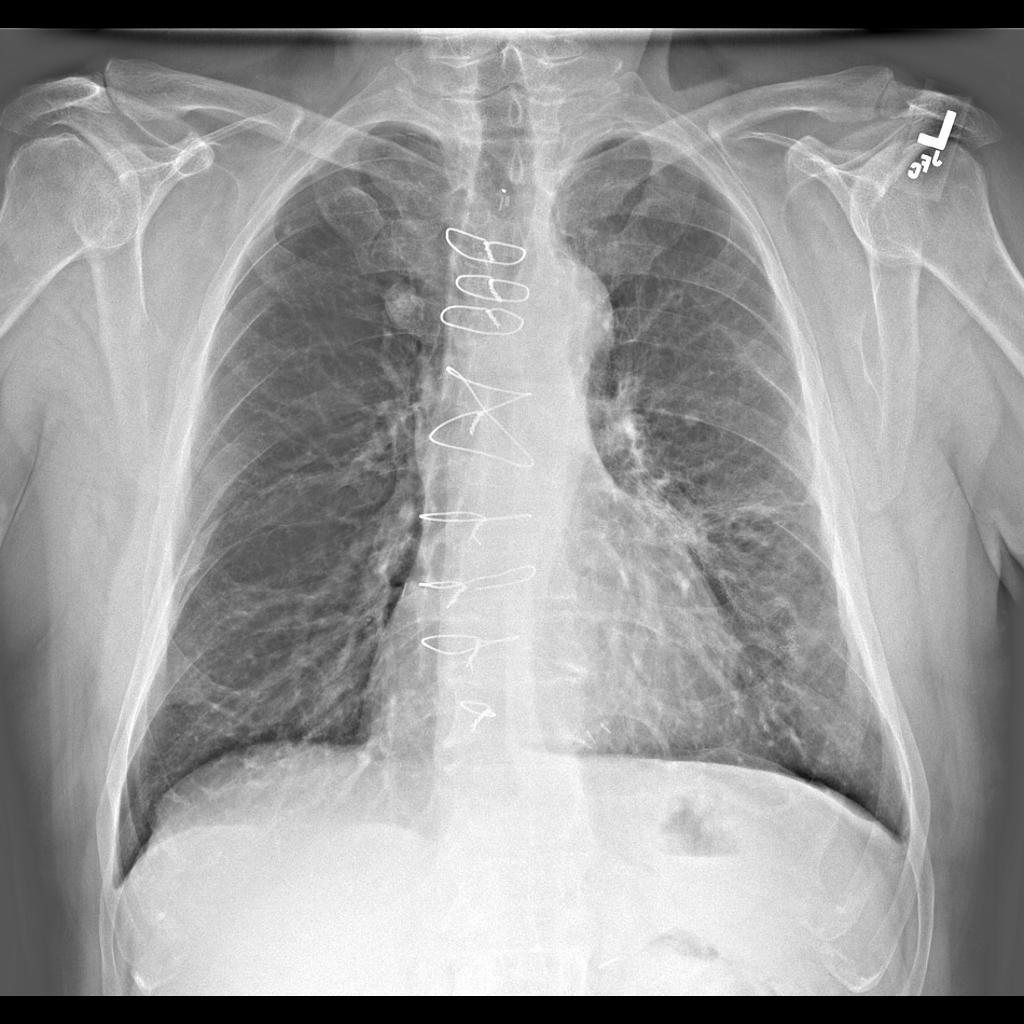Nodule: (380, 282, 439, 332), (778, 610, 822, 667)
